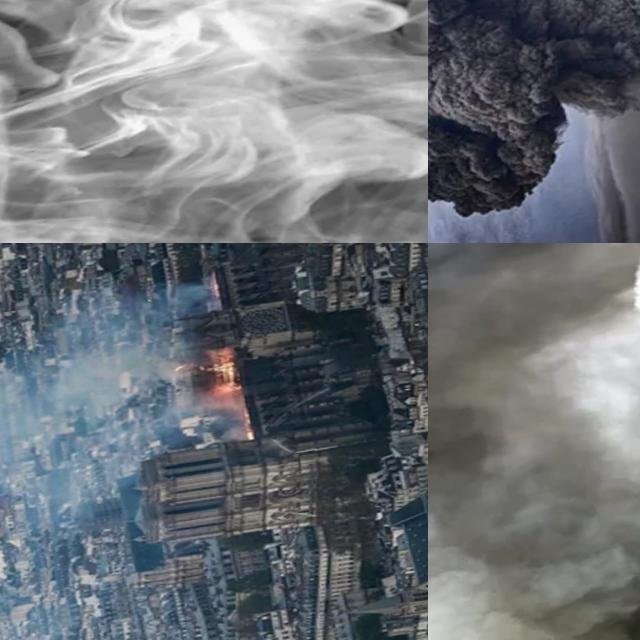smoke: (0, 0, 428, 243), (428, 243, 640, 640), (0, 260, 255, 525), (428, 0, 640, 243)
